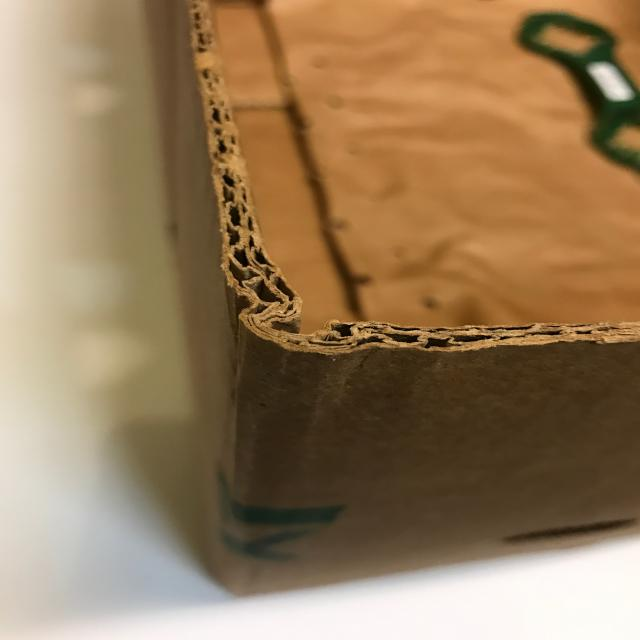cardboard: (122, 0, 640, 628)
